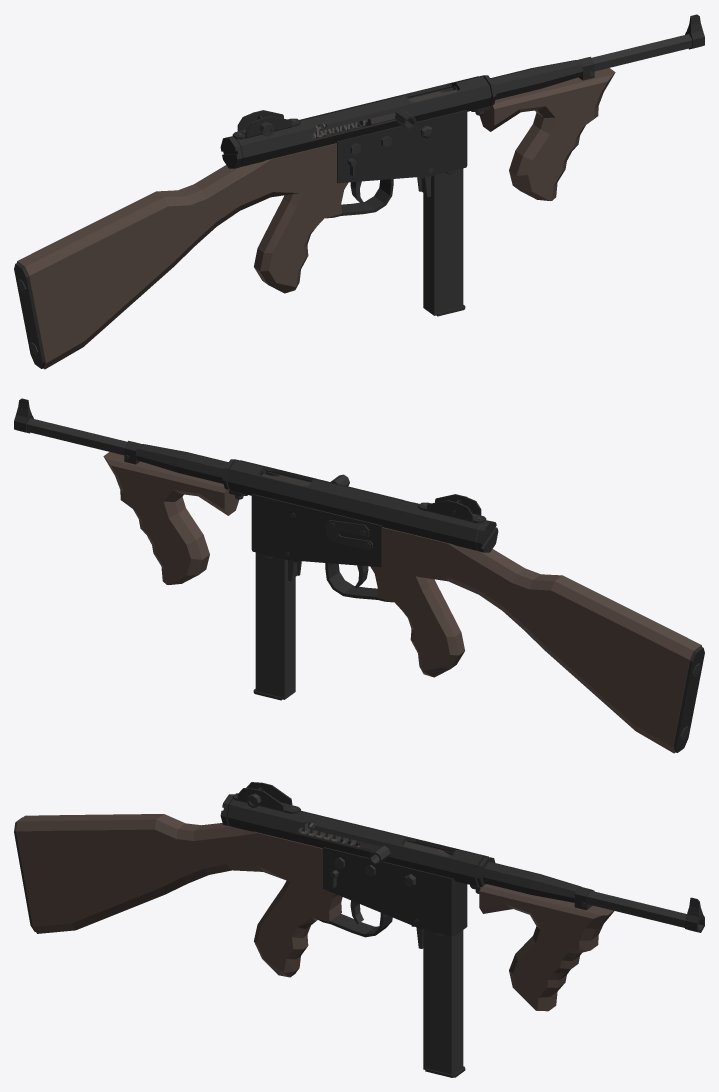
Rendered from M1A1Thompson.fbx.
The picture shows the model from 3 angles, top to bottom: view 1: azimuth 30°, elevation 25°; view 2: azimuth 150°, elevation 25°; view 3: azimuth 330°, elevation 25°; orthographic projection.
Parts seen in each view (by area): view 1: Cube.008; view 2: Cube.008; view 3: Cube.008.
Part boxes in pixels (x1,y1,x2,y2): Cube.008: (14,14,704,369); Cube.008: (14,398,704,753); Cube.008: (14,782,704,1077).
Bounding box in the file's own units: 1177 × 393 × 77.59.
